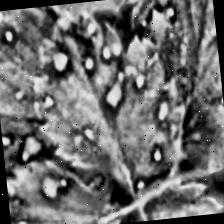Leaf Spot: (23, 0, 193, 209), (0, 1, 119, 212), (138, 0, 224, 181), (4, 151, 126, 224), (102, 175, 224, 224)
